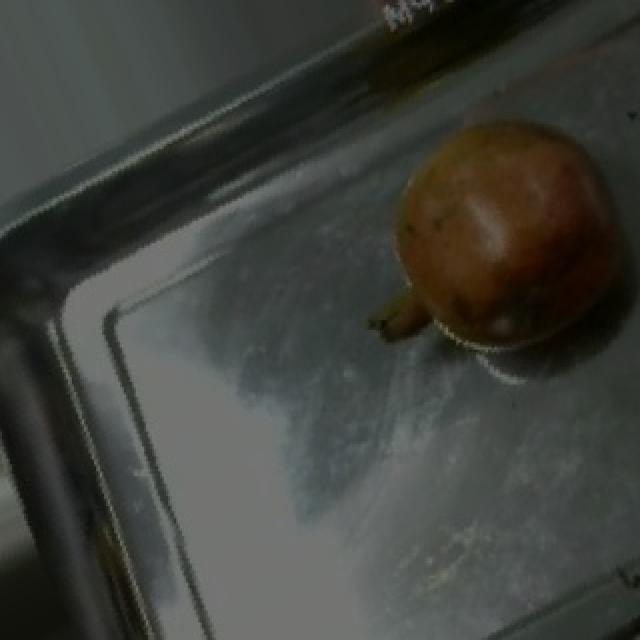fruit: (360, 94, 634, 372)
